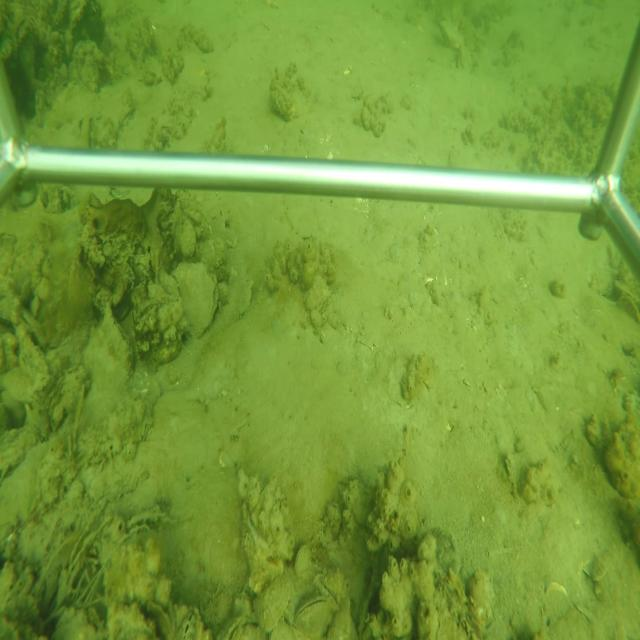Oyster-Closed: (173, 260, 221, 338), (99, 303, 137, 381), (255, 577, 293, 634), (292, 589, 337, 633), (218, 616, 267, 637)
Oyster-Indeterminate: (440, 20, 466, 50)
